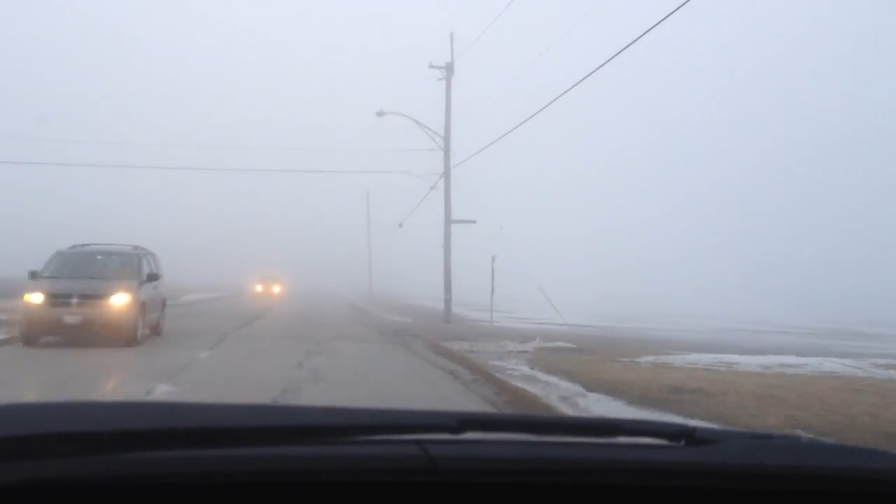car: (18, 240, 169, 348), (253, 274, 285, 299)
